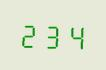four: (63, 20, 84, 51)
three: (41, 19, 62, 50)
two: (18, 18, 39, 49)
